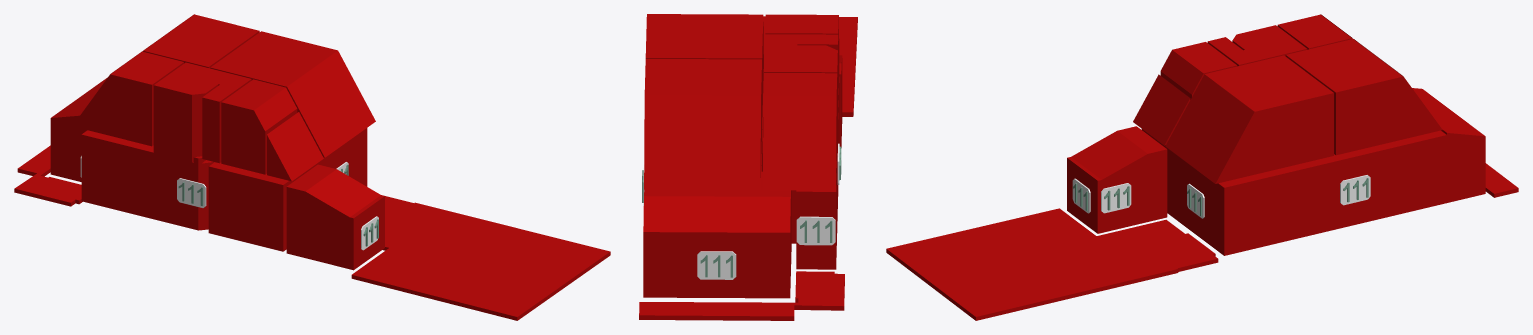
3 views of the same model, side by side, from view 1: azimuth 30°, elevation 25°; view 2: azimuth 150°, elevation 25°; view 3: azimuth 270°, elevation 25° (orthographic). The views are drawn at different scales.
Visible parts, largest first — view 1: g_13, g_7, g_5, g_0, g_9, g_4, g_6, g_11, g_2, g_8, g_10, g_12 (+4 smaller); view 2: g_8, g_1, g_9, g_7, g_14, g_4, g_10, g_15, g_13, g_6, g_11, g_27 (+3 smaller); view 3: g_13, g_7, g_1, g_0, g_8, g_5, g_6, g_12, g_10, g_9, g_11, g_14 (+2 smaller).
Boxes of the visible parts, x1=… form: g_13: x1=351, y1=196, x2=610, y2=320; g_7: x1=210, y1=31, x2=375, y2=157; g_5: x1=286, y1=164, x2=384, y2=270; g_0: x1=208, y1=128, x2=367, y2=251; g_9: x1=72, y1=51, x2=183, y2=146; g_4: x1=81, y1=130, x2=153, y2=218; g_6: x1=221, y1=79, x2=297, y2=174; g_11: x1=153, y1=76, x2=218, y2=156; g_2: x1=151, y1=147, x2=214, y2=230; g_8: x1=143, y1=14, x2=259, y2=68; g_10: x1=167, y1=62, x2=251, y2=163; g_12: x1=267, y1=112, x2=323, y2=181; g_8: x1=644, y1=59, x2=761, y2=189; g_1: x1=643, y1=119, x2=791, y2=298; g_9: x1=763, y1=73, x2=837, y2=190; g_7: x1=645, y1=14, x2=763, y2=129; g_14: x1=639, y1=302, x2=797, y2=320; g_4: x1=791, y1=152, x2=837, y2=269; g_10: x1=764, y1=34, x2=838, y2=112; g_15: x1=795, y1=271, x2=844, y2=310; g_13: x1=644, y1=16, x2=857, y2=120; g_6: x1=765, y1=14, x2=838, y2=99; g_11: x1=797, y1=45, x2=837, y2=136; g_27: x1=796, y1=216, x2=835, y2=245; g_13: x1=886, y1=208, x2=1218, y2=320; g_7: x1=1165, y1=55, x2=1333, y2=183; g_1: x1=1296, y1=88, x2=1485, y2=237; g_0: x1=1141, y1=129, x2=1302, y2=255; g_8: x1=1285, y1=39, x2=1442, y2=155; g_5: x1=1067, y1=126, x2=1167, y2=233; g_6: x1=1160, y1=42, x2=1237, y2=99; g_12: x1=1133, y1=74, x2=1190, y2=145; g_10: x1=1207, y1=34, x2=1307, y2=66; g_9: x1=1277, y1=14, x2=1352, y2=49; g_11: x1=1232, y1=25, x2=1287, y2=50; g_14: x1=1485, y1=163, x2=1518, y2=197.
Bounding box in the file's own units: 15.46 × 5.36 × 21.66.
